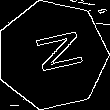N_W: (22, 30, 82, 80)
